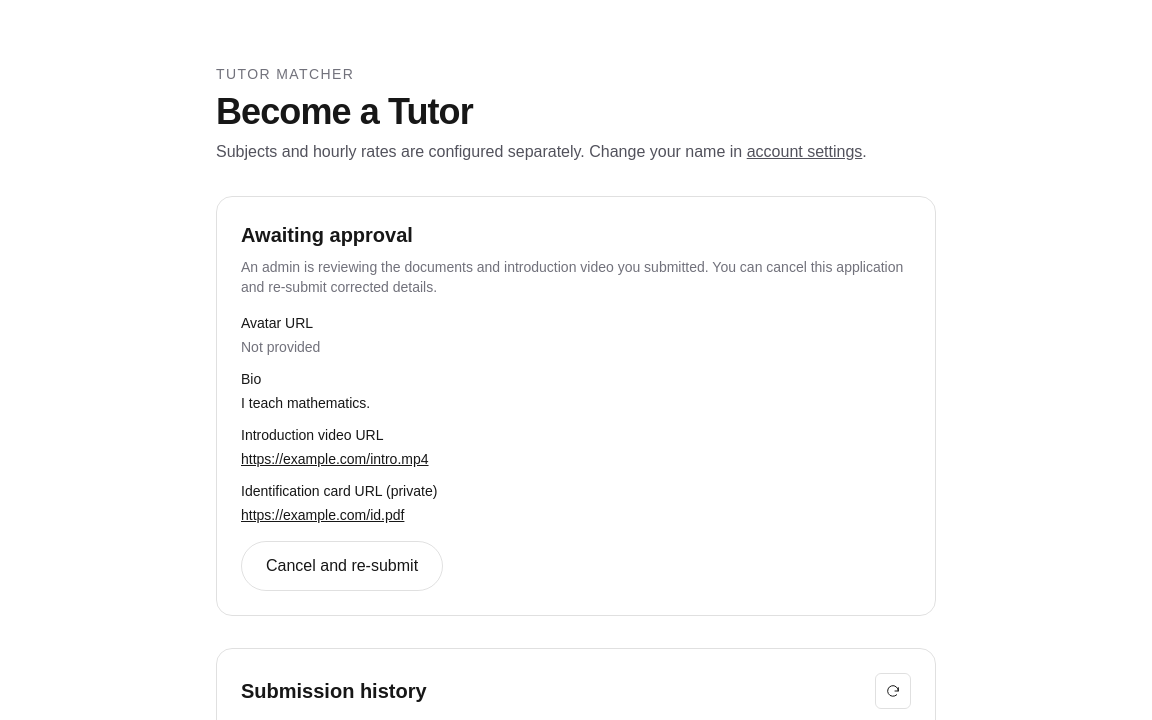
cancels a pending application and opens a draft copied from it to re-submit
Click the button "Cancel and re-submit". click: (342, 566)
box: [241,541,443,591]
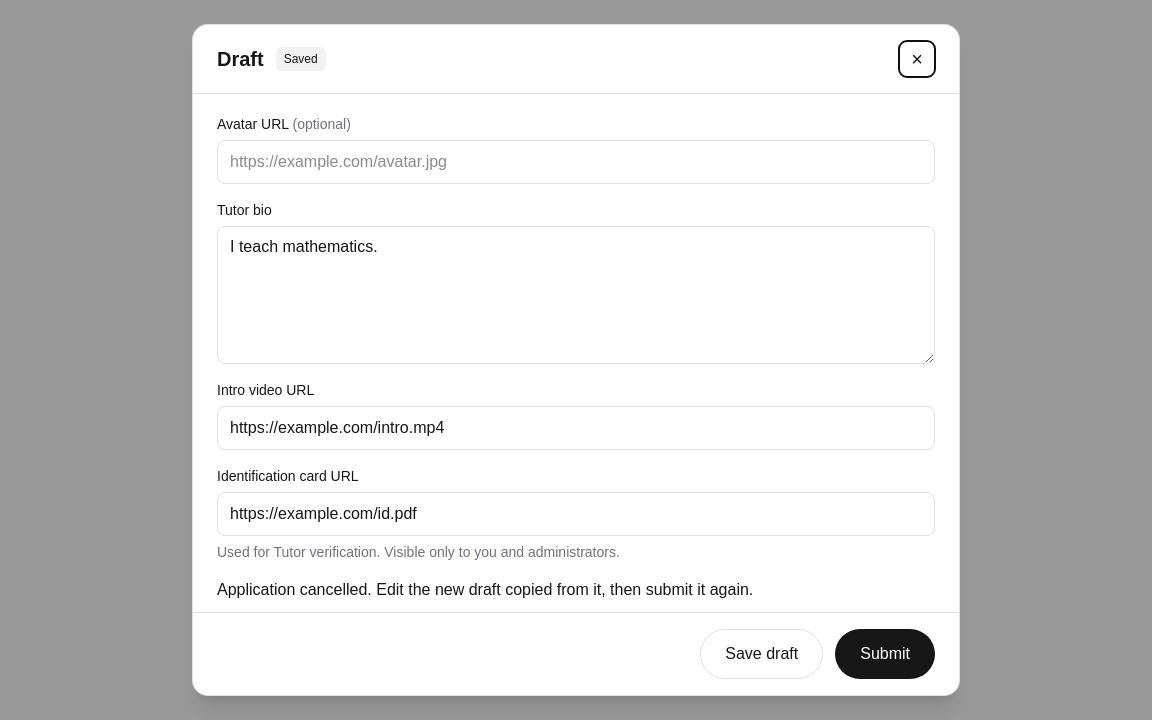
Check: the text box labelled "Tutor bio" holds "I teach mathematics.", box [217,226,935,364]
